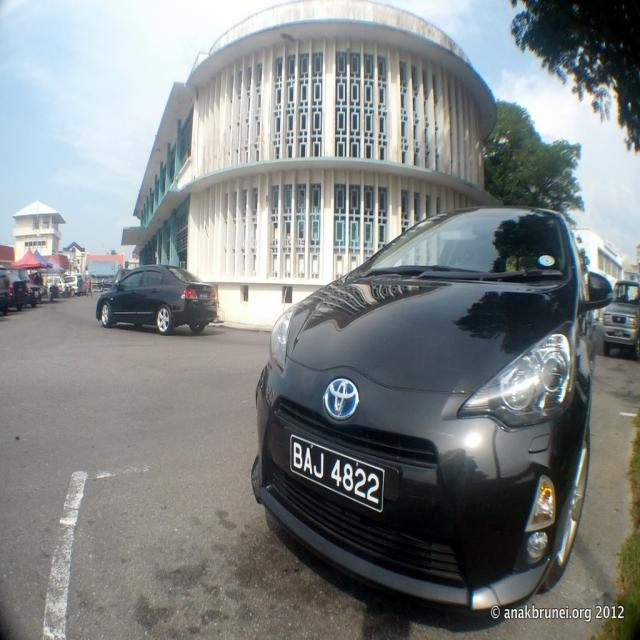car: (96, 263, 217, 336)
